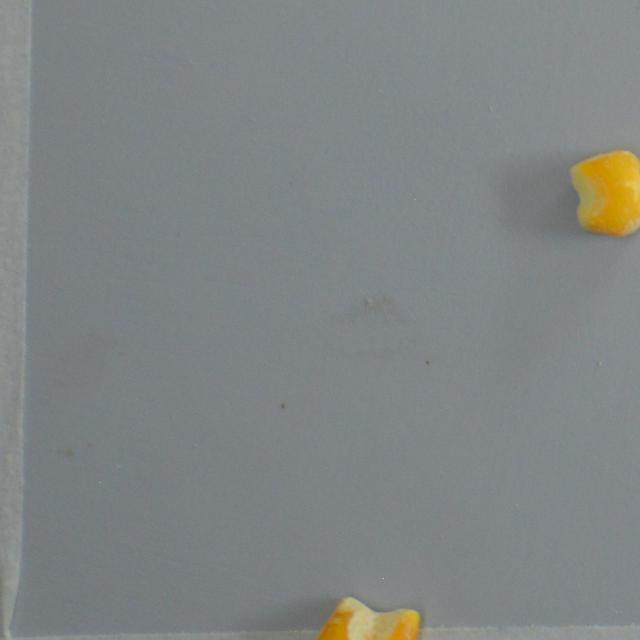pelicula: (570, 150, 640, 238)
